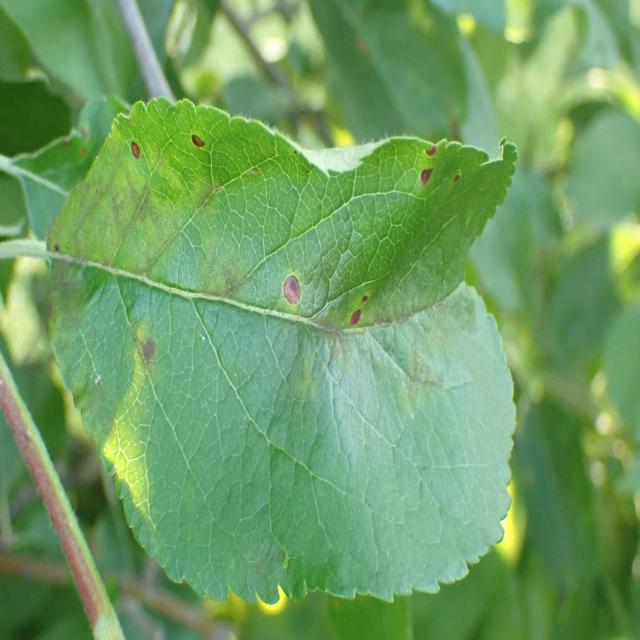frog-eye-leaf-spot: (47, 95, 519, 607)
